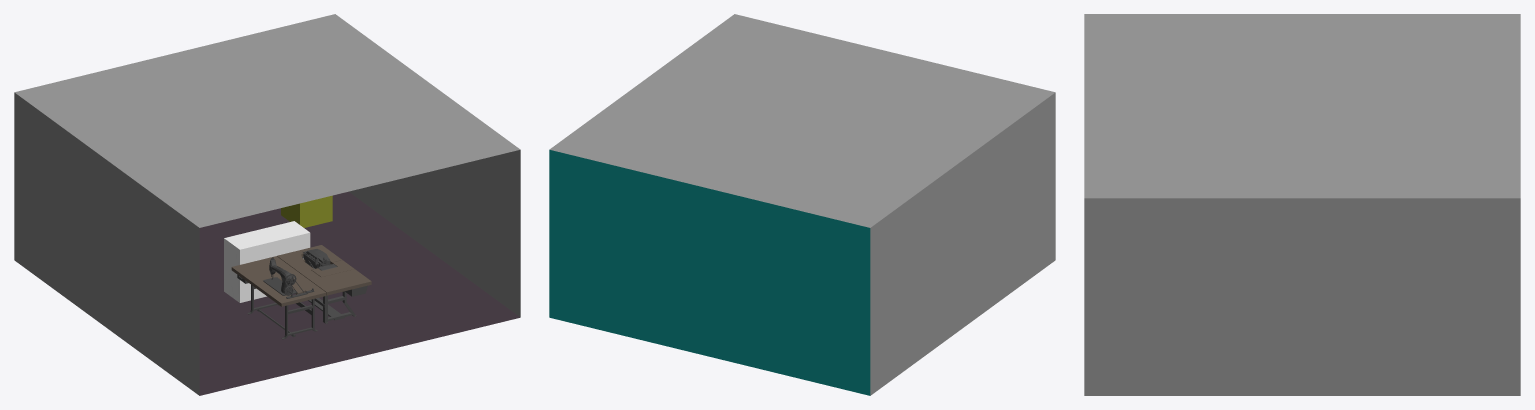
Rendered from tailorshop.glb.
The picture shows the model from 3 angles, left to right: view 1: azimuth 30°, elevation 25°; view 2: azimuth 150°, elevation 25°; view 3: azimuth 270°, elevation 25°; orthographic projection. The views are drawn at different scales.
Visible parts, largest first — view 1: room, singer-industrial, ironing-board, overlock, bomberOutfit; view 2: room; view 3: room.
Boxes of the visible parts, x1,y1,x2,y2 form: room: (14,14,520,395); singer-industrial: (231,256,326,339); ironing-board: (224,221,310,302); overlock: (277,245,371,323); bomberOutfit: (281,195,332,227); room: (549,14,1055,395); room: (1084,14,1520,395).
Size of the model in its own units: 5 by 2.51 by 5.
